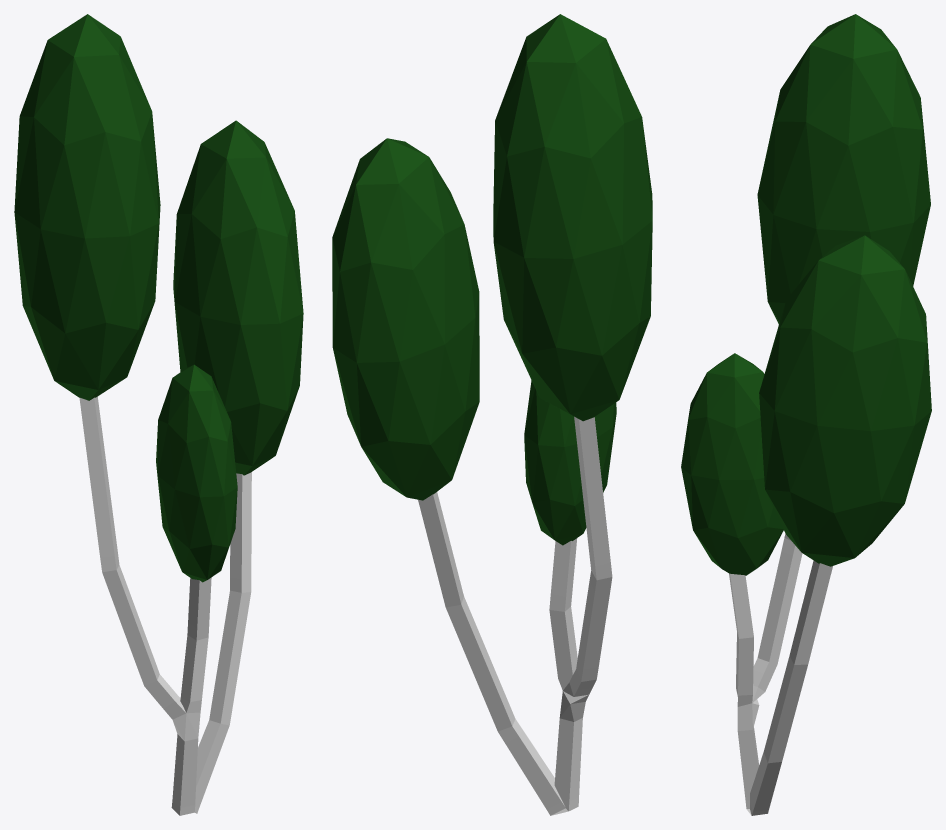
The model's file is Tree.FBX.
3 renders of one model, left to right at view 1: azimuth 30°, elevation 25°; view 2: azimuth 150°, elevation 25°; view 3: azimuth 270°, elevation 25°, orthographic. The views are drawn at different scales.
Parts seen in each view (by area): view 1: Icosphere, Icosphere.002, trunk, Icosphere.001; view 2: Icosphere, Icosphere.002, trunk, Icosphere.001; view 3: Icosphere.002, Icosphere, Icosphere.001, trunk.
Boxes of the visible parts, x1=… form: Icosphere: x1=14, y1=14, x2=160, y2=400; Icosphere.002: x1=173, y1=120, x2=303, y2=475; trunk: x1=79, y1=397, x2=251, y2=815; Icosphere.001: x1=156, y1=364, x2=237, y2=582; Icosphere: x1=493, y1=14, x2=652, y2=421; Icosphere.002: x1=332, y1=138, x2=479, y2=500; trunk: x1=418, y1=416, x2=612, y2=815; Icosphere.001: x1=524, y1=380, x2=616, y2=545; Icosphere.002: x1=759, y1=235, x2=931, y2=566; Icosphere: x1=757, y1=14, x2=930, y2=324; Icosphere.001: x1=681, y1=353, x2=783, y2=575; trunk: x1=729, y1=533, x2=832, y2=815.
Size of the model in its own units: 5.37 by 15.2 by 4.46.
